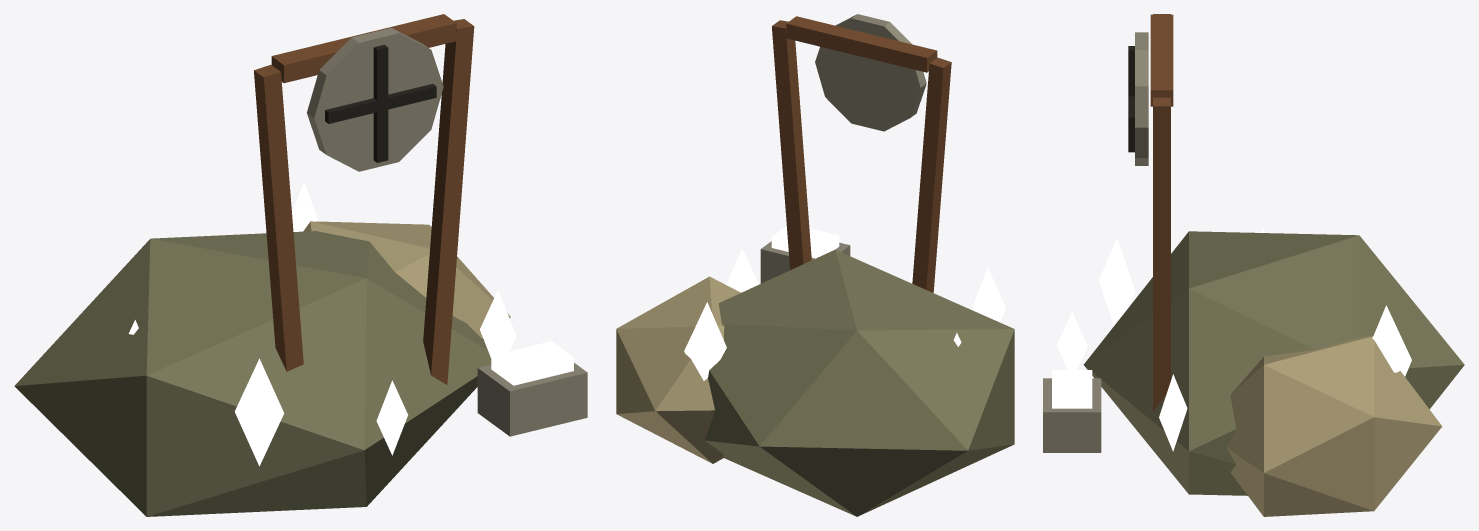
File: mine_t2.glb
3 views of the same model, side by side, from view 1: azimuth 30°, elevation 25°; view 2: azimuth 150°, elevation 25°; view 3: azimuth 270°, elevation 25° (orthographic). The views are drawn at different scales.
Parts seen in each view (by area): view 1: body, part_rotor, glow; view 2: body, part_rotor, glow; view 3: body, glow, part_rotor.
Part boxes in pixels (x1,y1,x2,y2): body: (14, 14, 587, 516); part_rotor: (307, 27, 443, 171); glow: (128, 182, 573, 466); body: (616, 16, 1014, 516); part_rotor: (815, 14, 926, 131); glow: (684, 226, 1005, 380); body: (1043, 14, 1464, 516); glow: (1052, 228, 1411, 451); part_rotor: (1128, 32, 1148, 165).
Bounding box in the file's own units: 2.05 × 2.19 × 1.88.
